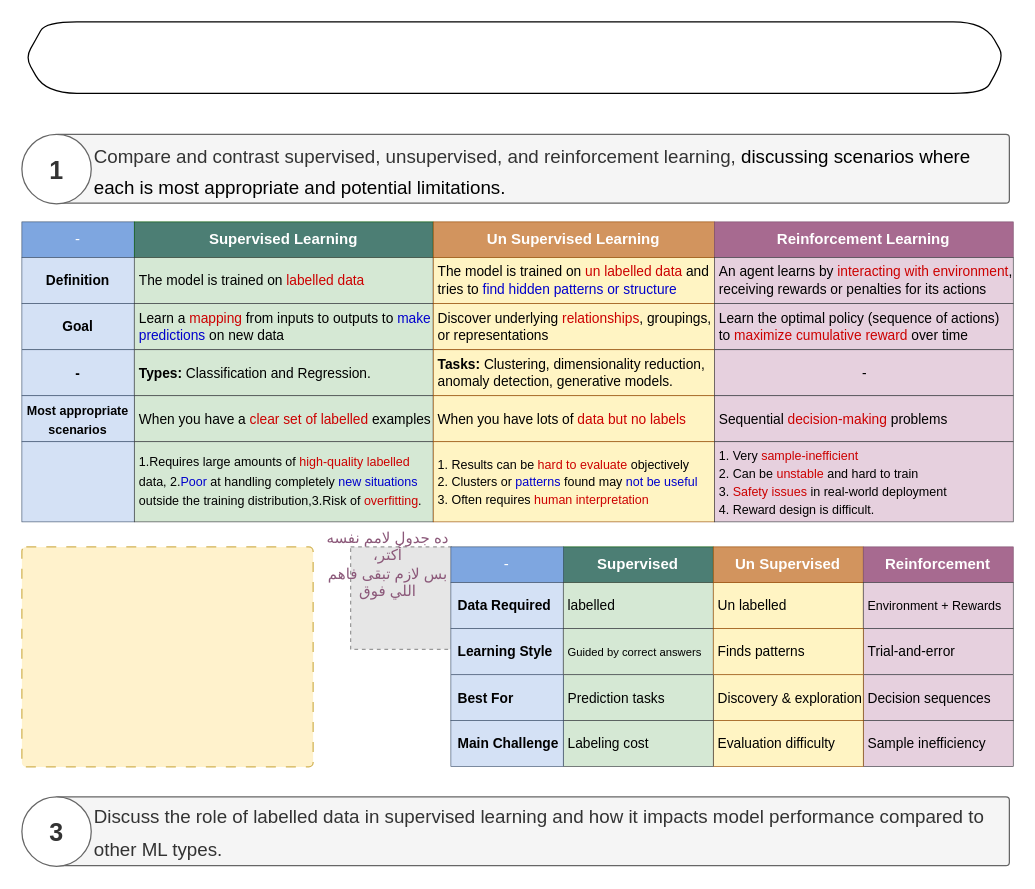
Some shapes in this 1035 by 889 pixel diagram are drawn without their labels. Grey dashed boxes stand in for pictures. The centre of each missing label's shape, as x and y in pixels:
"Limitations" belongs at (x=77, y=481).
"Rev. Sheet #1" belongs at (x=514, y=57).
"يعني ايه الكلام ده!؟" belongs at (x=167, y=656).
